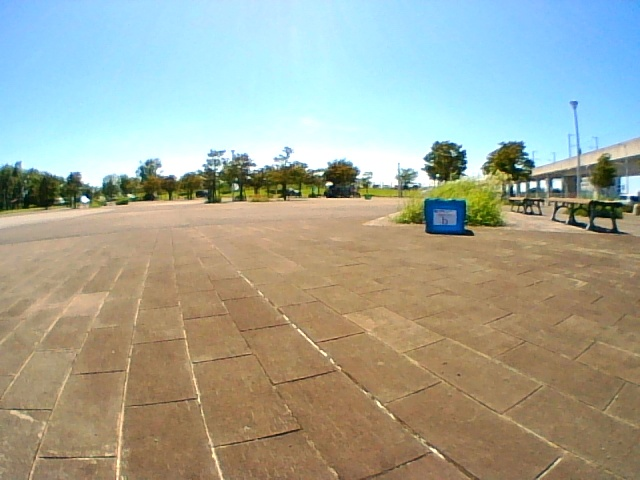blue_box: (425, 199, 465, 233)
tag_b: (433, 210, 457, 225)
